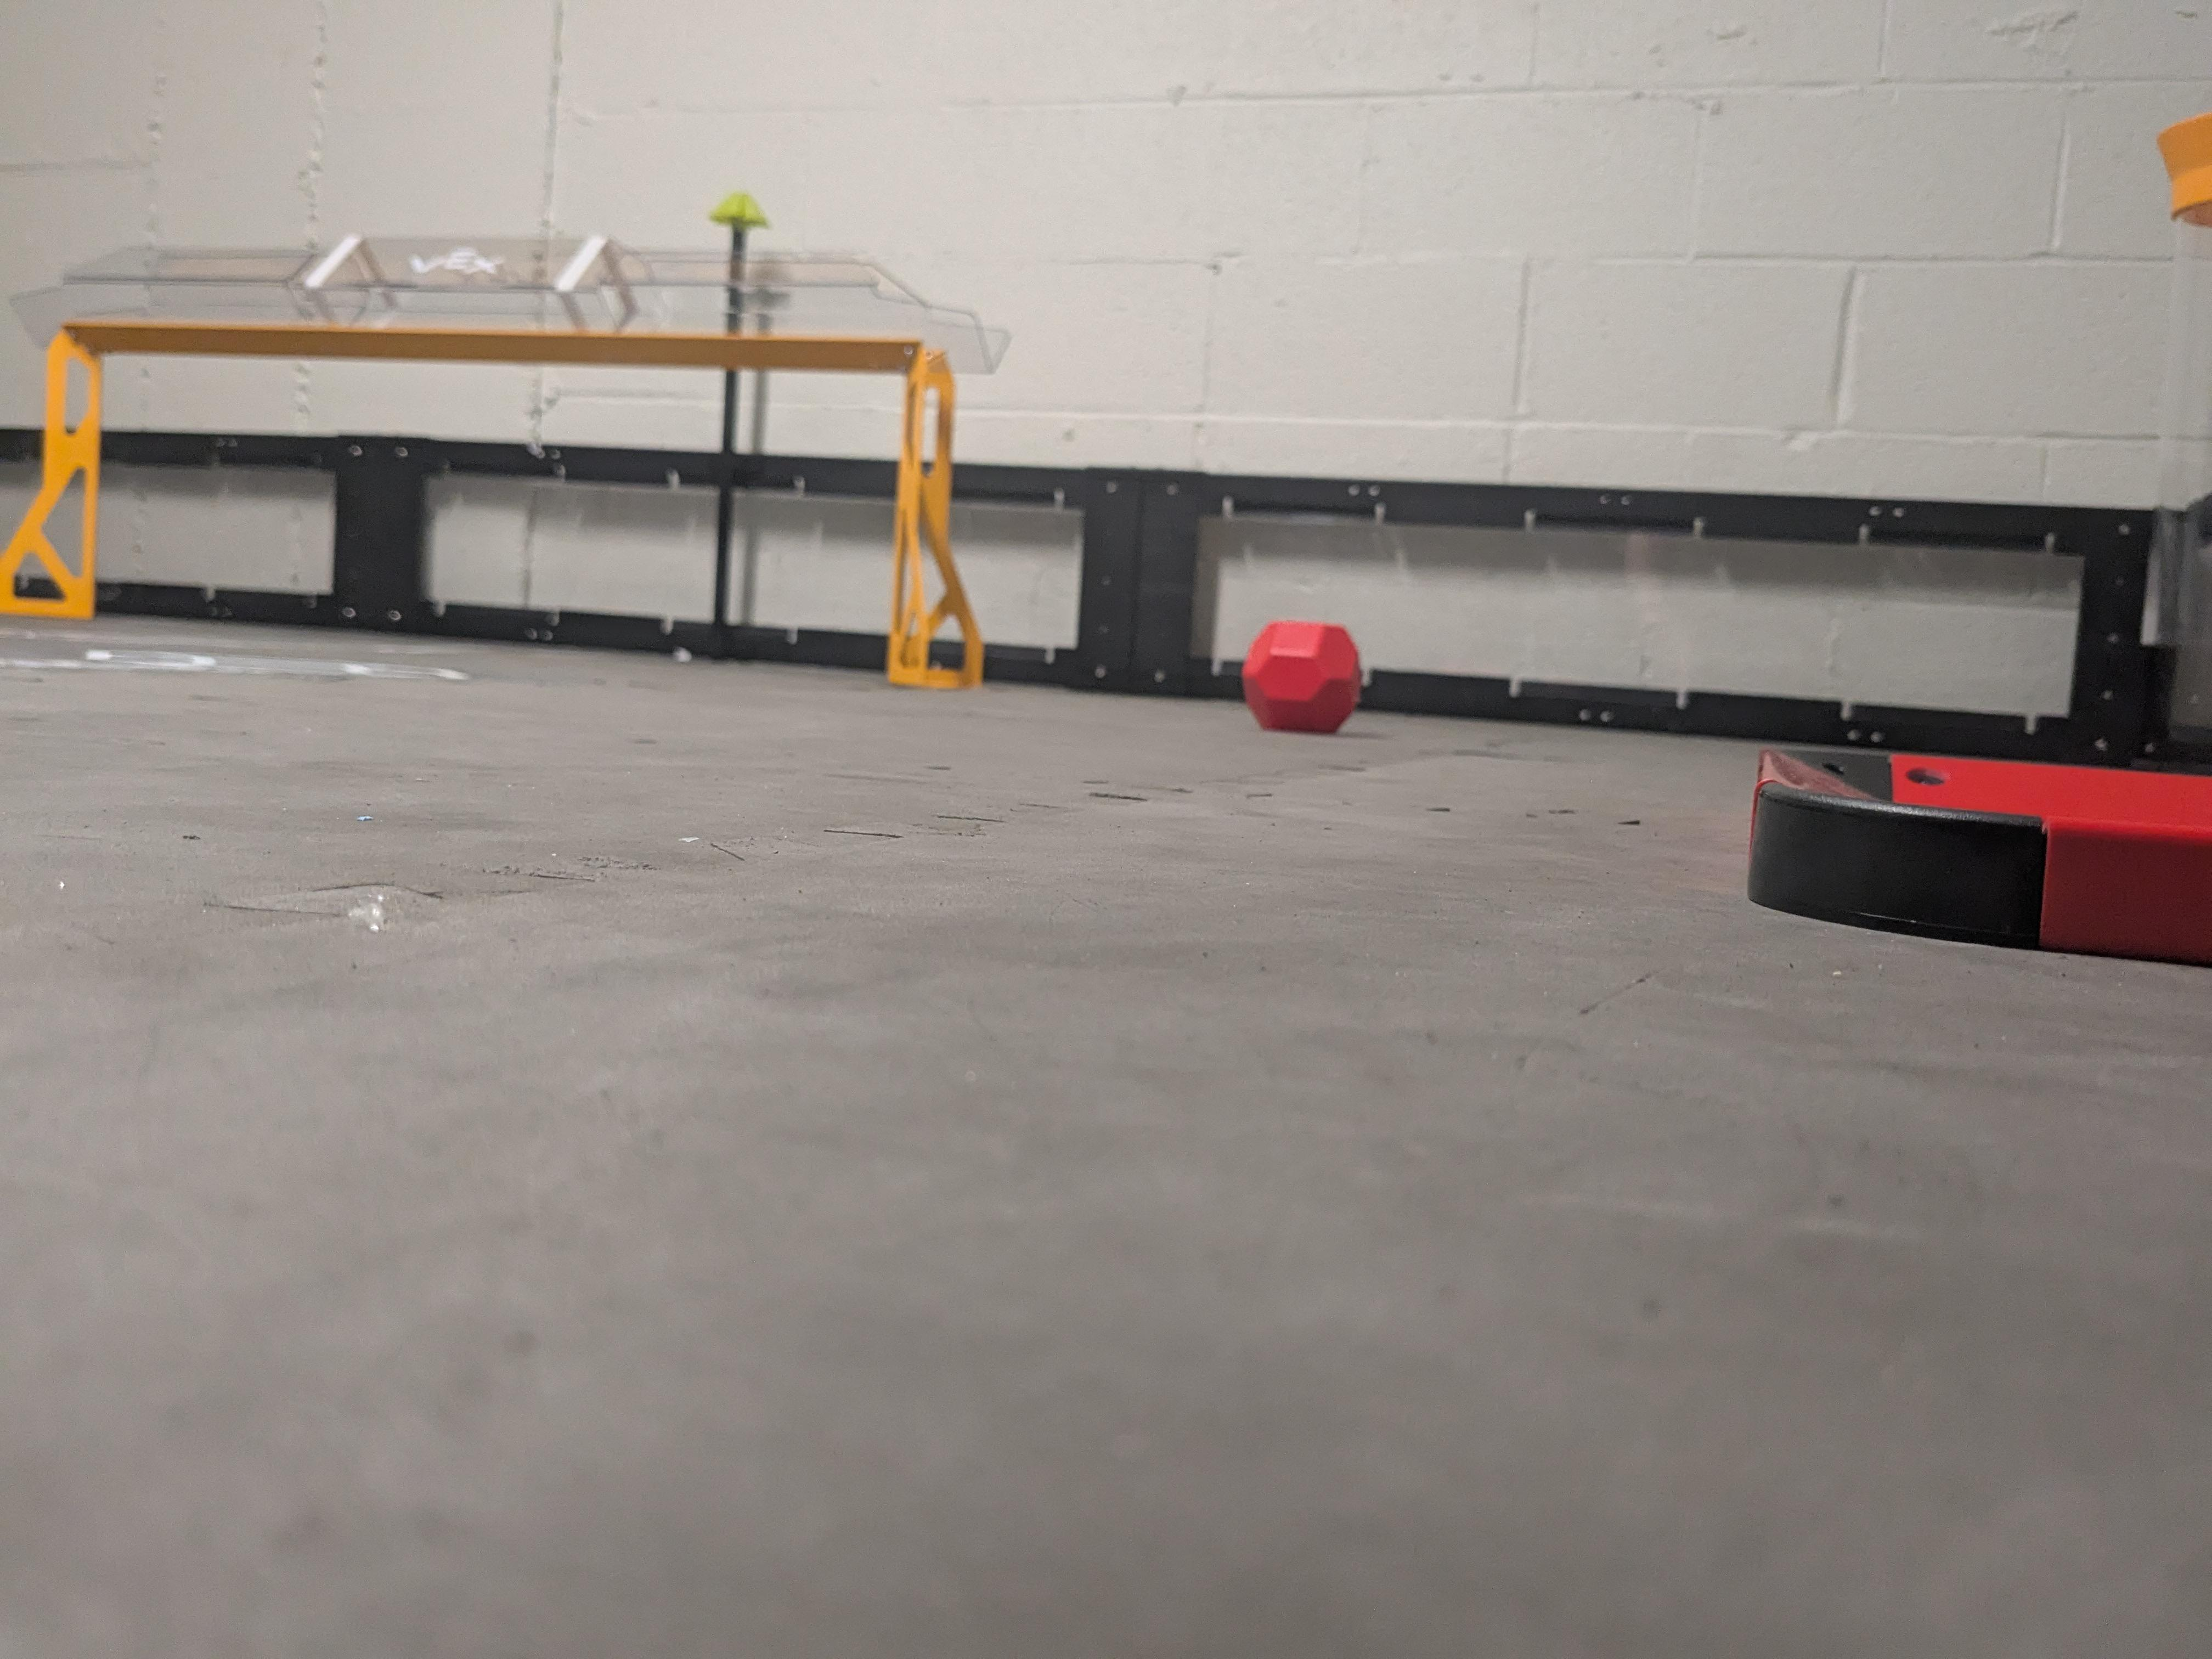Vex-Pieces-RED: (1242, 620, 1362, 732)
